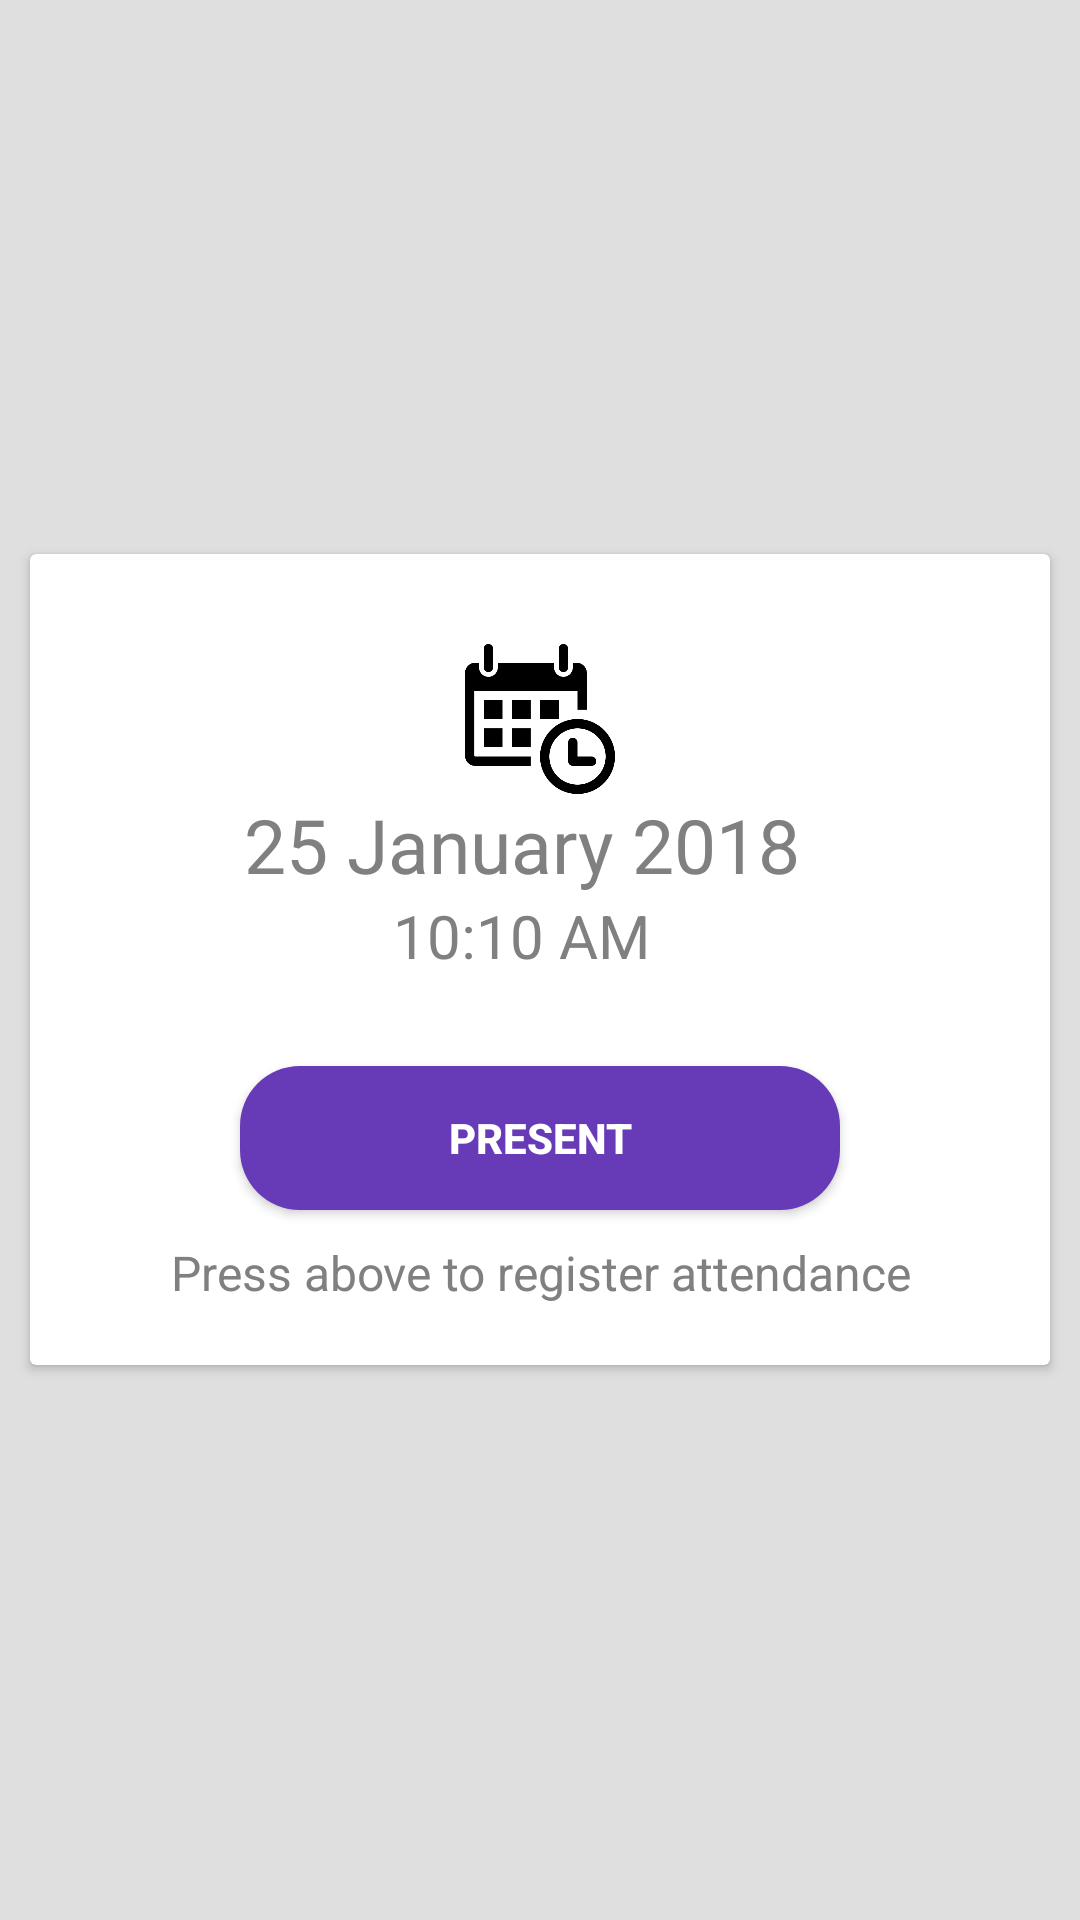

Icons on this 1080 × 1920 Android screen, each with the point to tap as [x,y]:
calender: [540,719]
